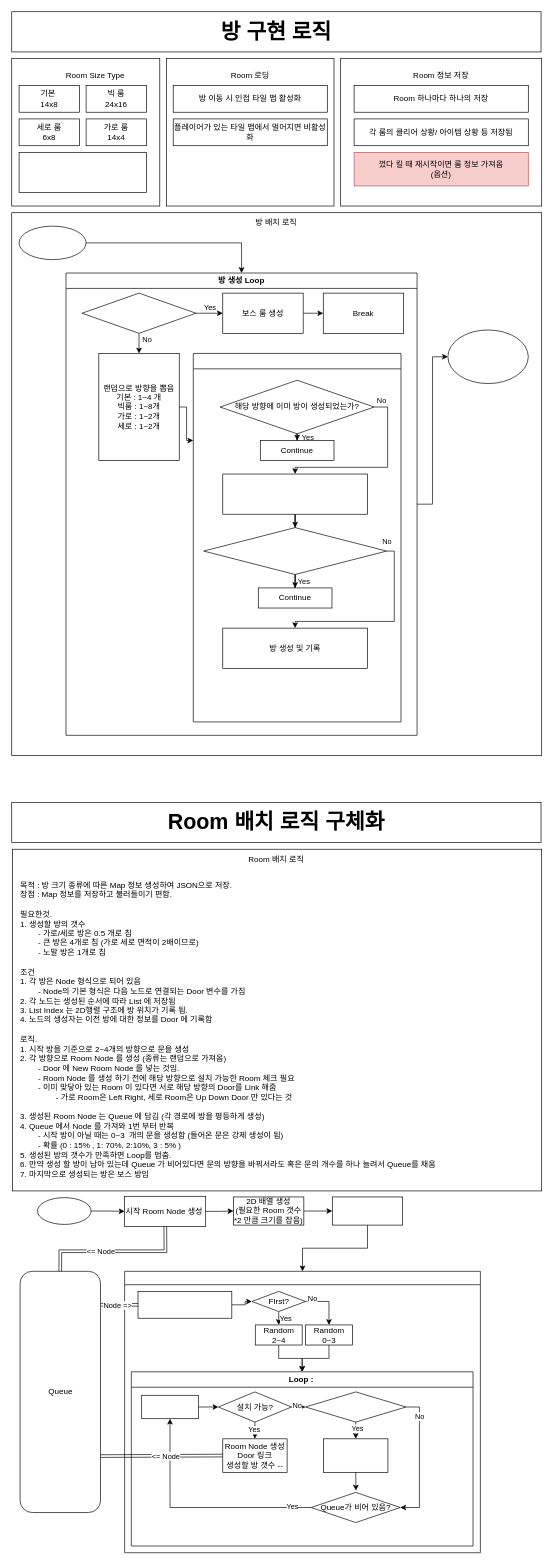
This 553x1564 diagram has some shape labels left out. Each missing label, with the box of its shape:
Door 링크: (323, 1438, 388, 1472)
Door 방향 설정: (141, 1395, 198, 1419)
Loop : 생성 할 방 갯수 > 0: (124, 1271, 480, 1553)
Node: (137, 1291, 232, 1318)
랜덤으로 뽑은 방향 갯수 만큼 반복: (193, 353, 401, 722)
룸 1칸을 7x4로 정의 함: (18, 152, 146, 193)
방 크기가 이미 생성되어 있는 방과 겹치는가?: (203, 527, 387, 575)
방 타입 랜덤으로 가져옴: (222, 473, 367, 514)
생성 갯수를 채웠는가?: (81, 292, 196, 333)
시작: (37, 1197, 91, 1224)
시작방은 고정: (18, 225, 86, 260)
인접한 Room이 있음?: (305, 1391, 406, 1422)
종료: (447, 329, 528, 384)
중앙에 시작 노드 배치: (332, 1196, 403, 1225)
